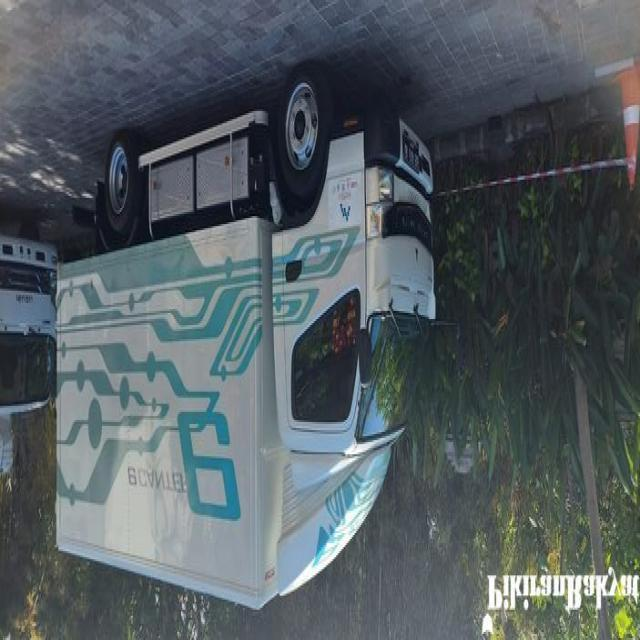truck: (56, 75, 434, 608)
